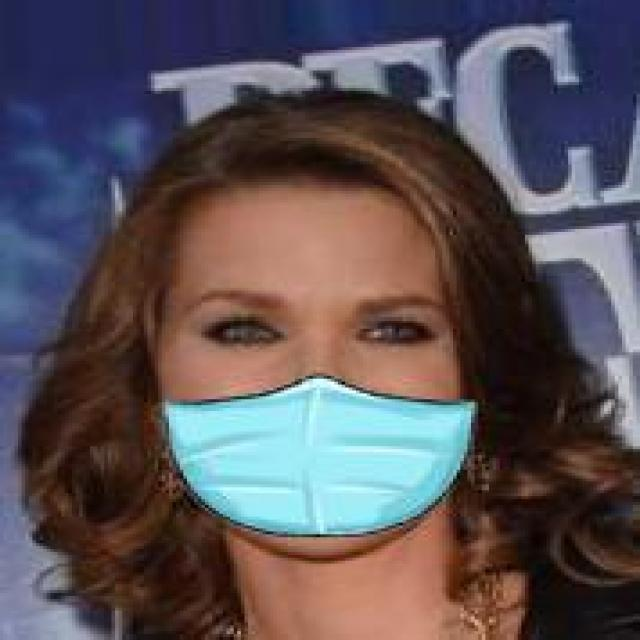mask: (90, 103, 528, 593)
